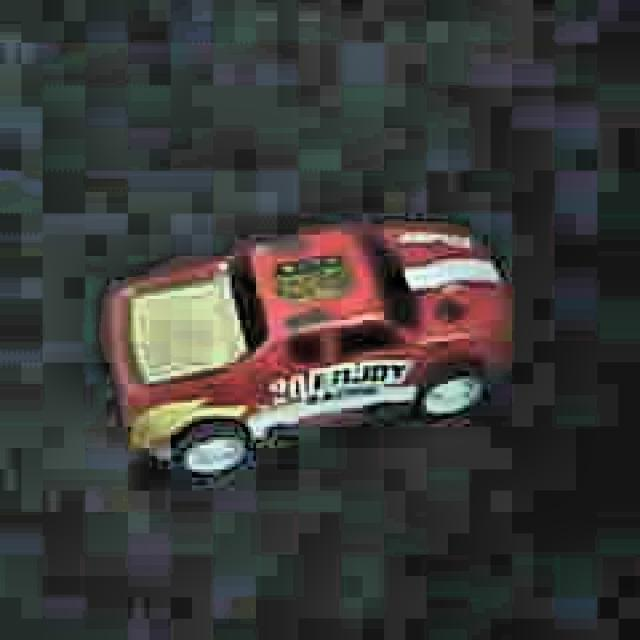car: (99, 214, 514, 490)
